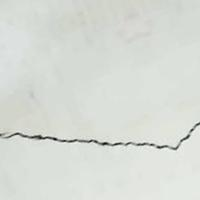crack: (0, 97, 199, 176)
